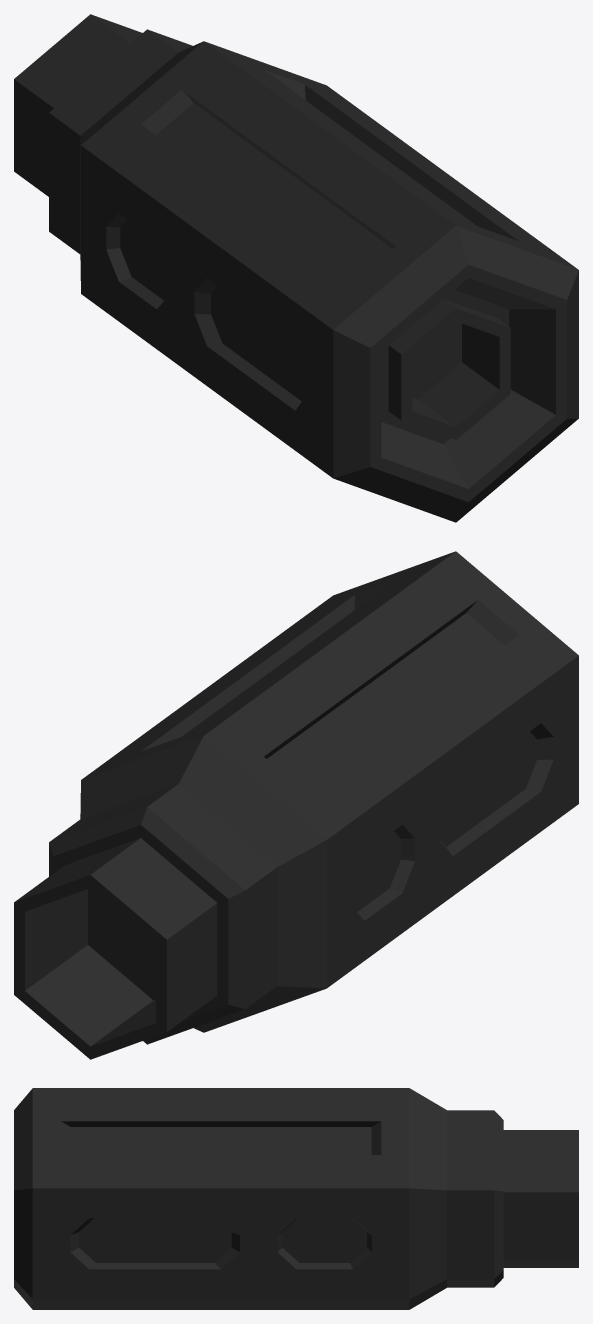
The model's file is Muzzle_Pistol_Flash Hider_A.fbx.
The picture shows the model from 3 angles, top to bottom: view 1: azimuth 30°, elevation 25°; view 2: azimuth 150°, elevation 25°; view 3: azimuth 270°, elevation 25°; orthographic projection. The views are drawn at different scales.
Visible parts, largest first — view 1: Muzzle_Pistol_Flash Hider_A; view 2: Muzzle_Pistol_Flash Hider_A; view 3: Muzzle_Pistol_Flash Hider_A.
Part boxes in pixels (<box>): Muzzle_Pistol_Flash Hider_A: <box>14,14,578,522</box>; Muzzle_Pistol_Flash Hider_A: <box>14,551,578,1059</box>; Muzzle_Pistol_Flash Hider_A: <box>14,1088,578,1309</box>.
Size of the model in its own units: 0.0281 by 0.0325 by 0.075.
